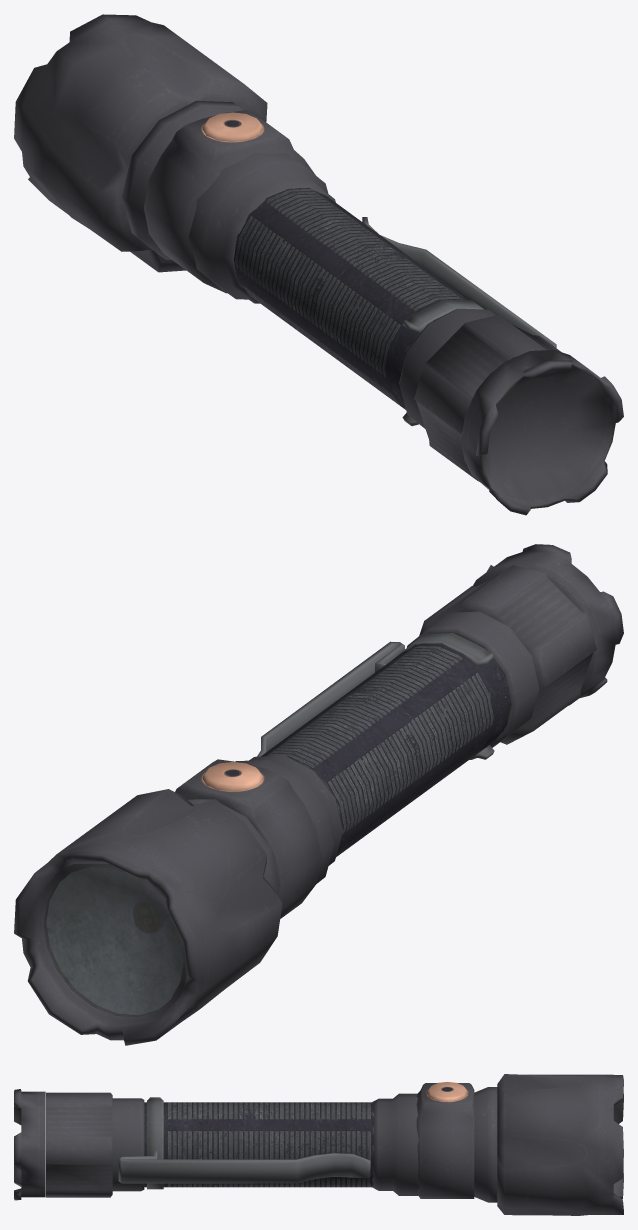
File: flashlight.glb
3 renders of one model, top to bottom at view 1: azimuth 30°, elevation 25°; view 2: azimuth 150°, elevation 25°; view 3: azimuth 270°, elevation 25°, orthographic. The views are drawn at different scales.
Parts seen in each view (by area): view 1: SM_Flashlight_V01; view 2: SM_Flashlight_V01; view 3: SM_Flashlight_V01.
Boxes of the visible parts, <box> form: SM_Flashlight_V01: <box>14,14,623,515</box>; SM_Flashlight_V01: <box>14,544,623,1045</box>; SM_Flashlight_V01: <box>14,1074,623,1215</box>.
Size of the model in its own units: 0.0303 by 0.0304 by 0.13.
1 material, 1 textured.
